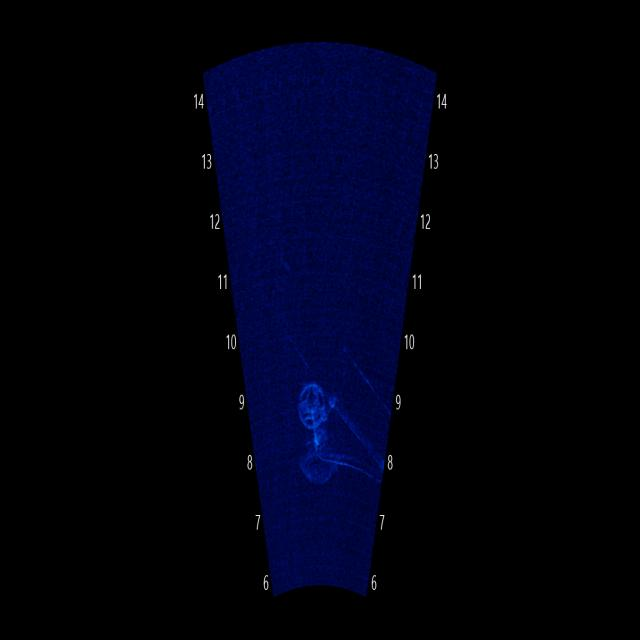circle: (285, 354, 341, 444)
